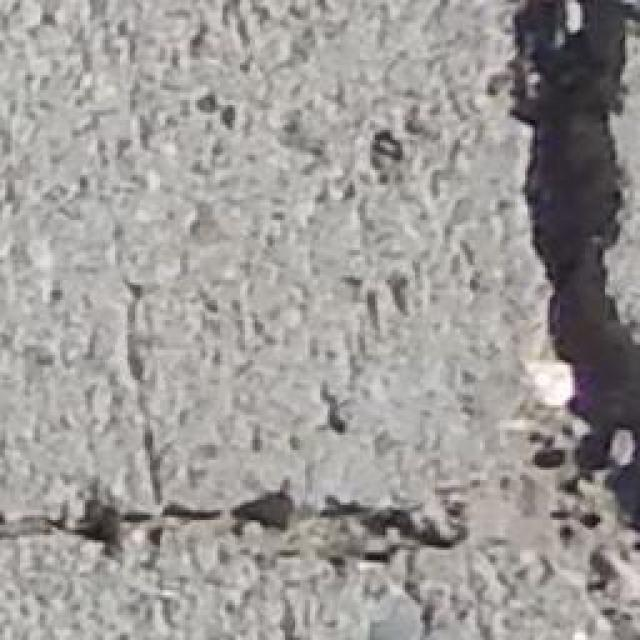concrete-crack: (473, 0, 640, 578), (0, 460, 484, 568)
